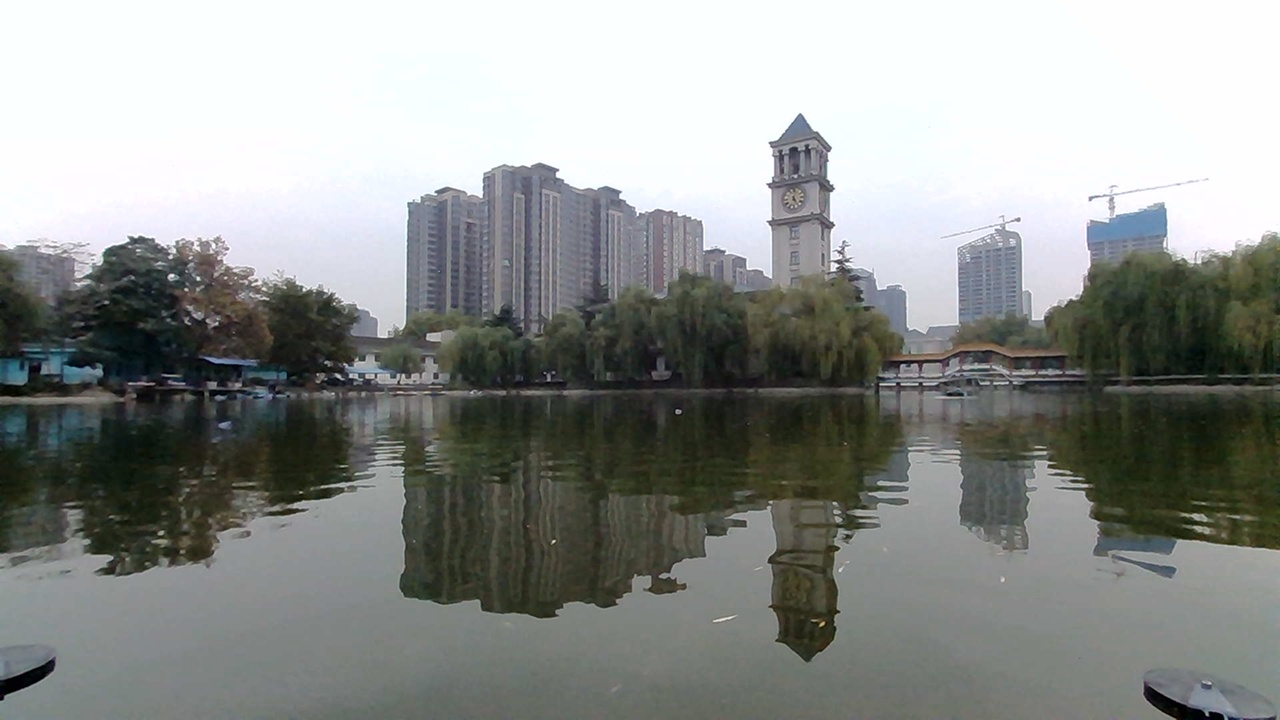bottle: (211, 412, 261, 448), (658, 393, 690, 420)
